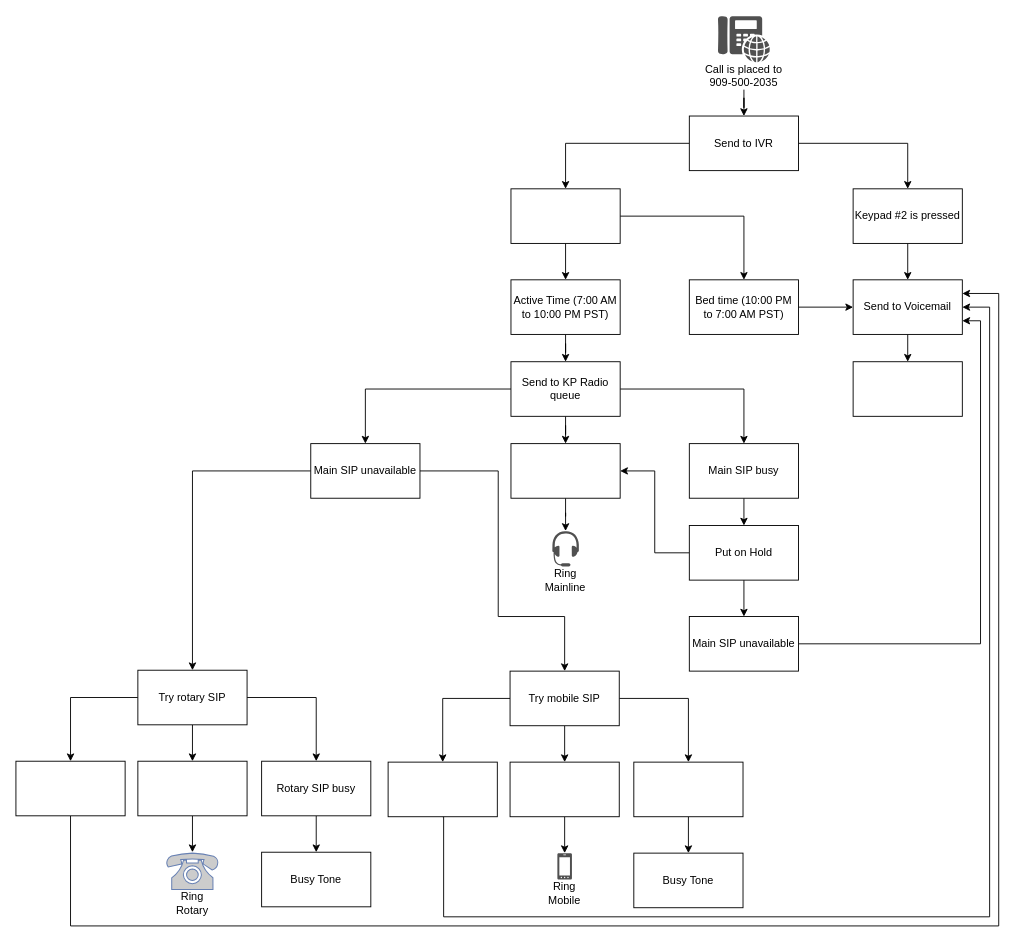
The diagram is 1022 pixels wide and 949 high, and some of its shapes have lost their labels. The shapes that lost their labels are listed below. From the top down, each one's centre as x and y in pixels, then its label:
point 565,215: Keypad #1 is pressed
point 907,388: send voicemail as .mp3 to kp radio email
point 565,470: Main SIP available
point 70,788: Rotary SIP unavailable
point 192,788: Rotary SIP available
point 442,789: Mobile SIP unavailable
point 564,789: Mobile SIP available
point 688,789: Mobile SIP busy
